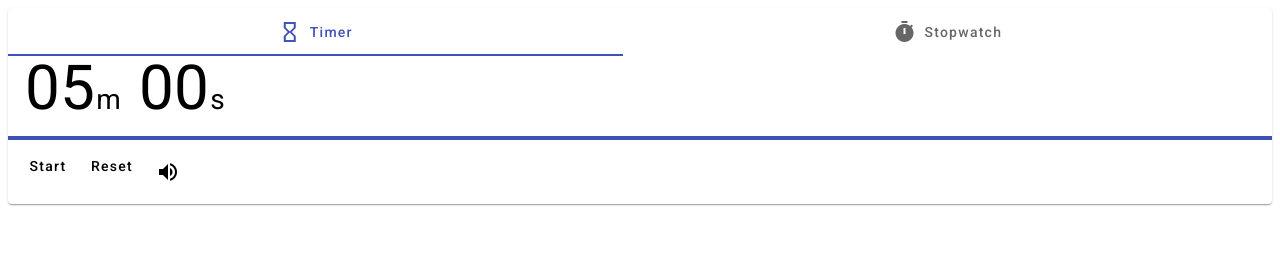
Test case: Timer page working › Able to give the timer invalid values and it reset back to neutral values
The width and height of the screenshot is (1280, 275).
Click the element with id "time-display" at coordinates (109, 100), box left=25, top=78, right=1255, bottom=114
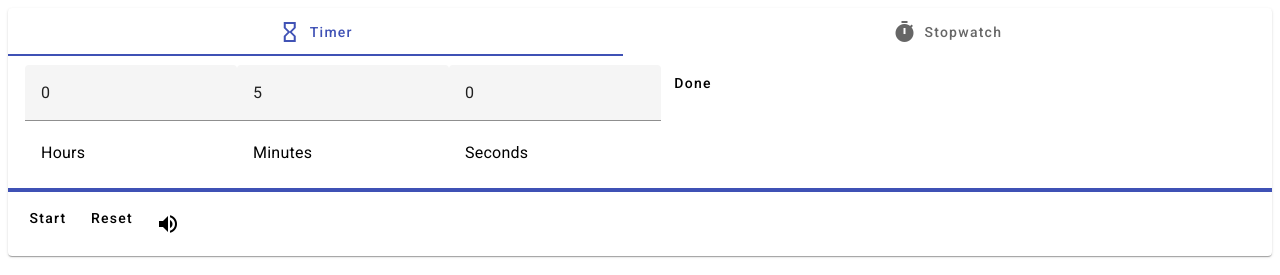
Replace the text in the 1st number field with placeholder "Hours" with "-100" at coordinates (131, 93), box left=41, top=81, right=221, bottom=105
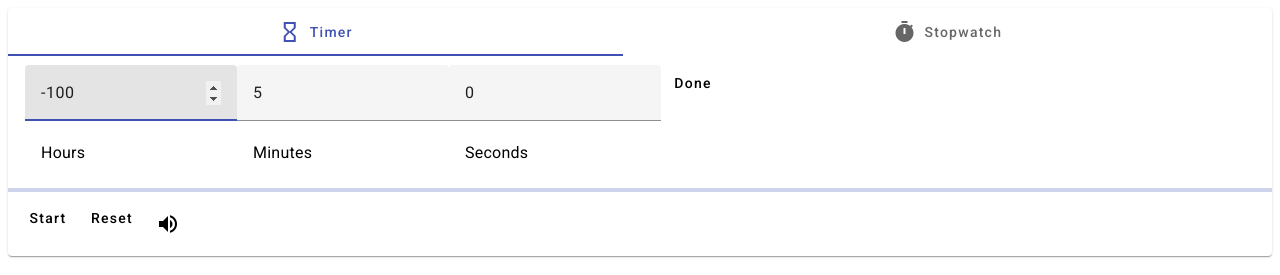
Replace the text in the 2nd number field with placeholder "Minutes" with "-100" at coordinates (343, 93), box left=253, top=81, right=433, bottom=105
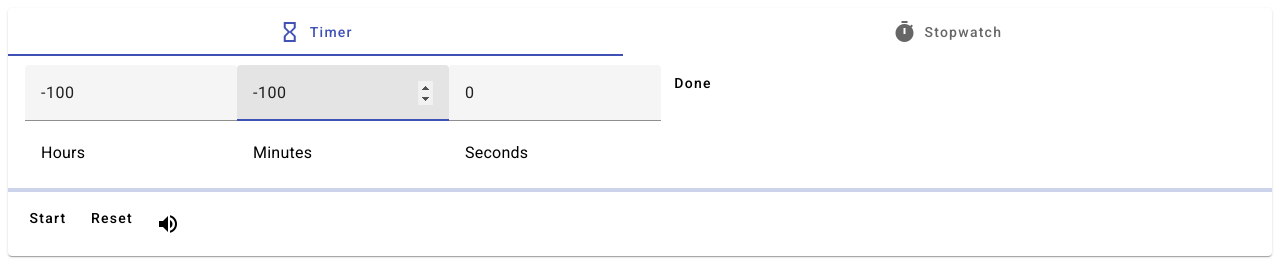
Replace the text in the 3rd number field with placeholder "Seconds" with "-100" at coordinates (555, 93), box left=465, top=81, right=645, bottom=105
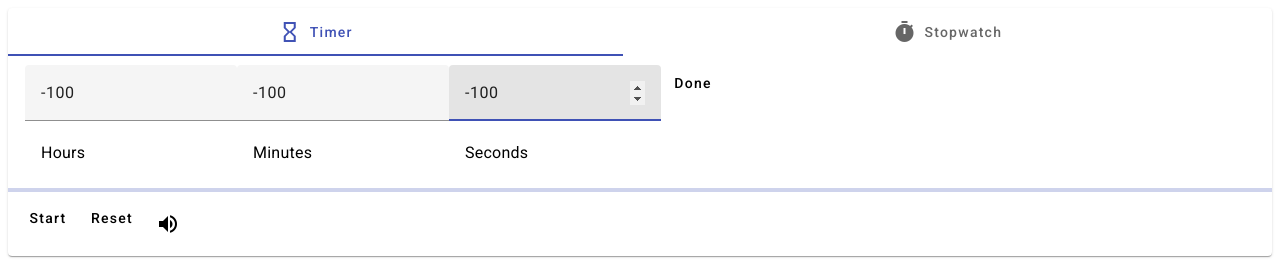
Click the button "Done" at coordinates (693, 83), box left=661, top=65, right=725, bottom=101
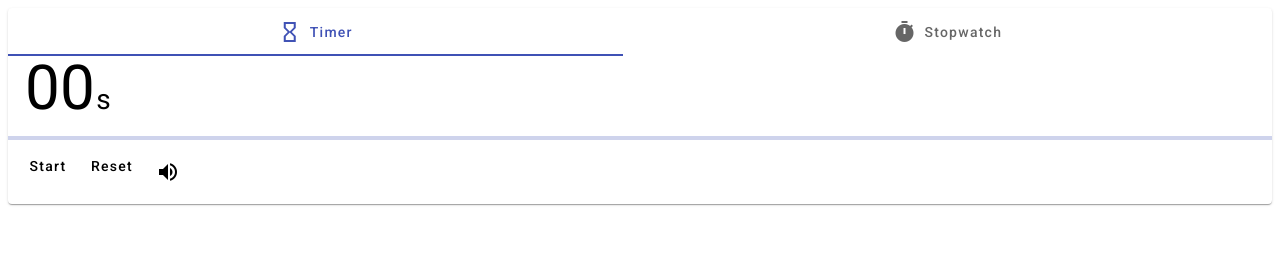
Expected: the text with class "time-display-digit" reads "00", left=25, top=51, right=96, bottom=124
